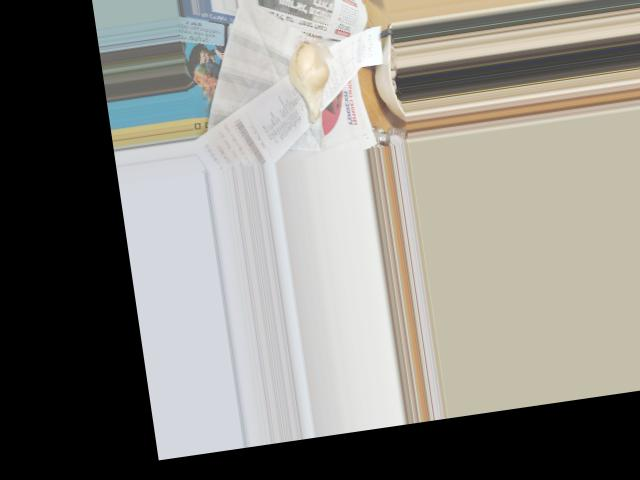onion: (283, 39, 338, 119)
